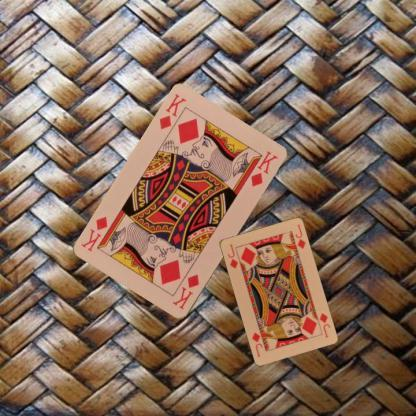Jd: (316, 310, 332, 339), (225, 241, 239, 270)
Kd: (170, 271, 202, 311), (156, 91, 187, 131)
